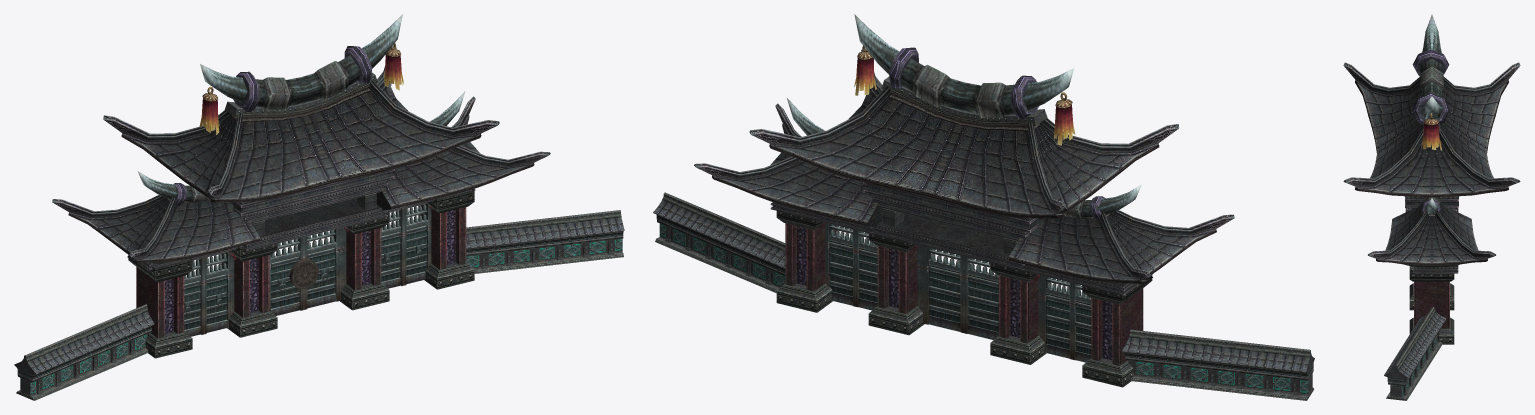
The model's file is 5st_gate_001.fbx.
3 views of the same model, side by side, from view 1: azimuth 30°, elevation 25°; view 2: azimuth 150°, elevation 25°; view 3: azimuth 270°, elevation 25° (orthographic). The views are drawn at different scales.
Parts seen in each view (by area): view 1: 5st_gate_001; view 2: 5st_gate_001; view 3: 5st_gate_001.
Boxes of the visible parts, x1,y1,x2,y2 form: 5st_gate_001: (14, 14, 624, 400); 5st_gate_001: (653, 14, 1314, 400); 5st_gate_001: (1343, 14, 1520, 400).
Bounding box in the file's own units: 37.31 × 16.03 × 11.45.
